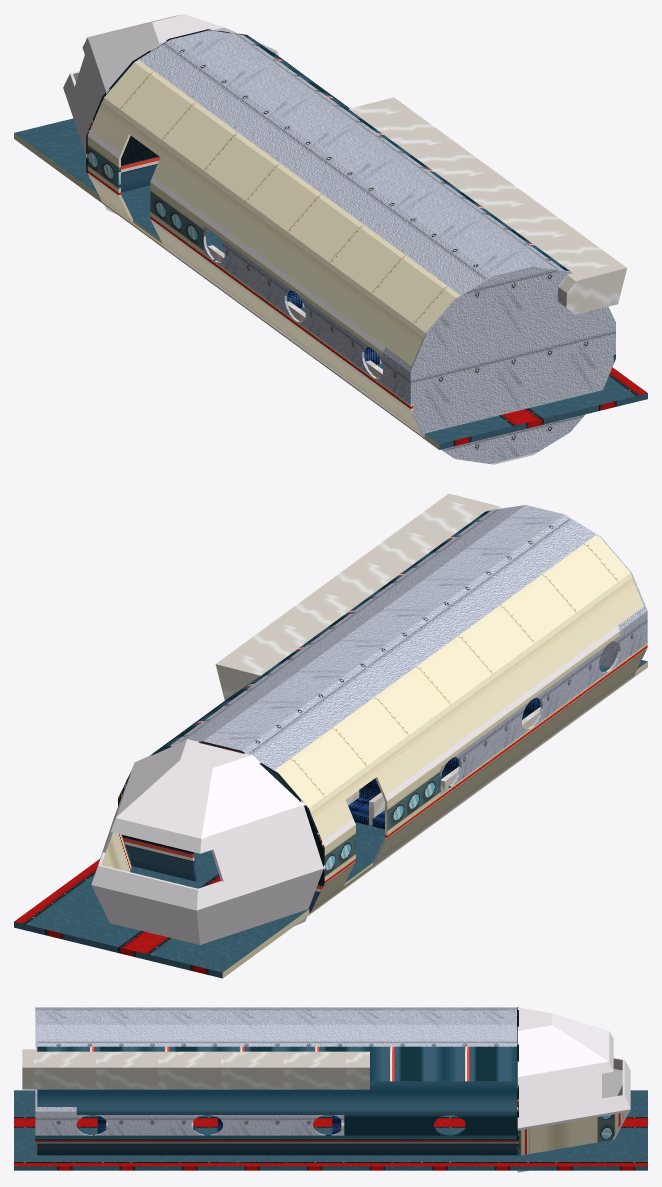
The model's file is Plane3_brush.glb.
3 renders of one model, top to bottom at view 1: azimuth 30°, elevation 25°; view 2: azimuth 150°, elevation 25°; view 3: azimuth 270°, elevation 25°, orthographic. The views are drawn at different scales.
Parts seen in each view (by area): view 1: Plane3; view 2: Plane3; view 3: Plane3.
Part boxes in pixels (bbox=[...]): Plane3: bbox=[14, 14, 647, 464]; Plane3: bbox=[14, 493, 647, 978]; Plane3: bbox=[14, 1007, 647, 1172].
Size of the model in its own units: 395 by 322 by 1298.
9 materials, 9 textured.
